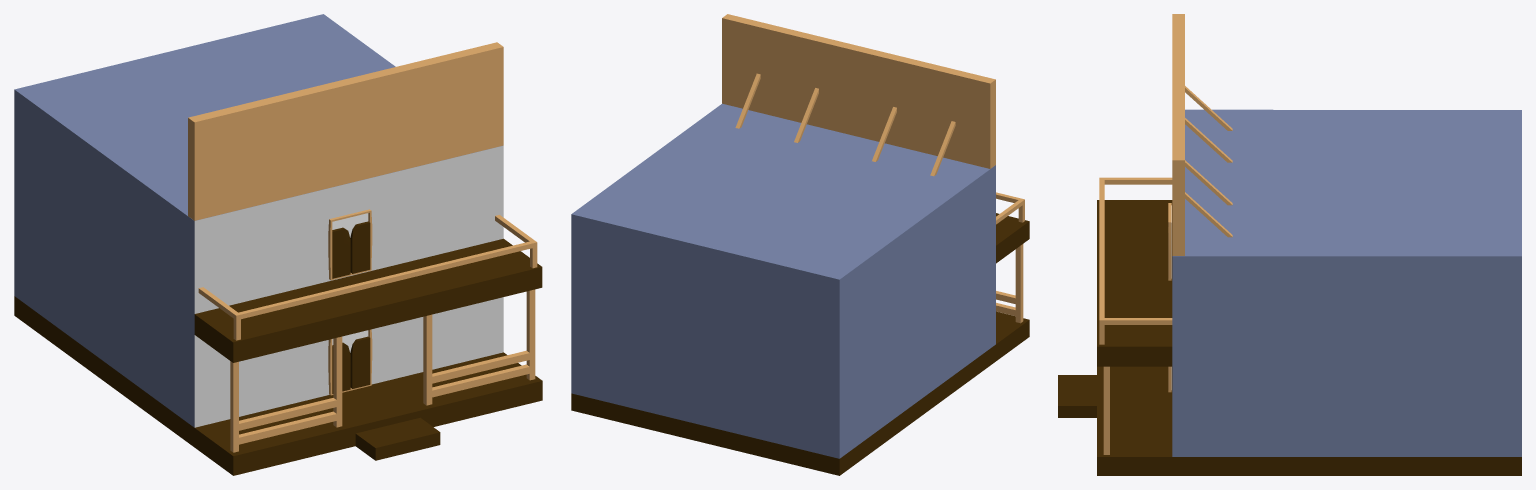
Rendered from Building1.glb.
The picture shows the model from 3 angles, left to right: view 1: azimuth 30°, elevation 25°; view 2: azimuth 150°, elevation 25°; view 3: azimuth 270°, elevation 25°; orthographic projection. The views are drawn at different scales.
Parts seen in each view (by area): view 1: Cube.008, Cube.006, Cube.003, Cube.001; view 2: Cube.008, Cube.006, Cube.009; view 3: Cube.008, Cube.006, Cube.009.
Boxes of the visible parts, x1,y1,x2,y2 form: Cube.008: (14,14,542,475); Cube.006: (198,215,537,452); Cube.003: (328,209,372,280); Cube.001: (328,329,372,395); Cube.008: (571,14,1029,475); Cube.006: (996,192,1024,323); Cube.009: (735,73,955,176); Cube.008: (1058,14,1521,475); Cube.006: (1099,177,1172,454); Cube.009: (1185,86,1232,237).
Size of the model in its own units: 13.77 by 13.84 by 18.44.
